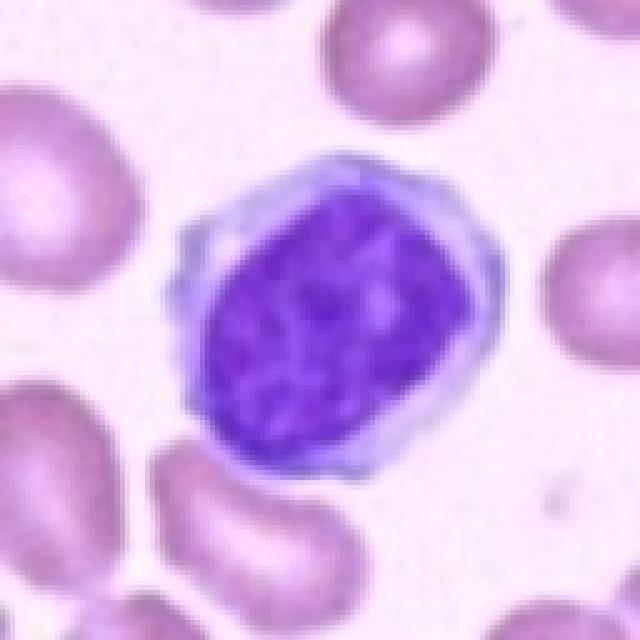lympho: (160, 144, 514, 482)
